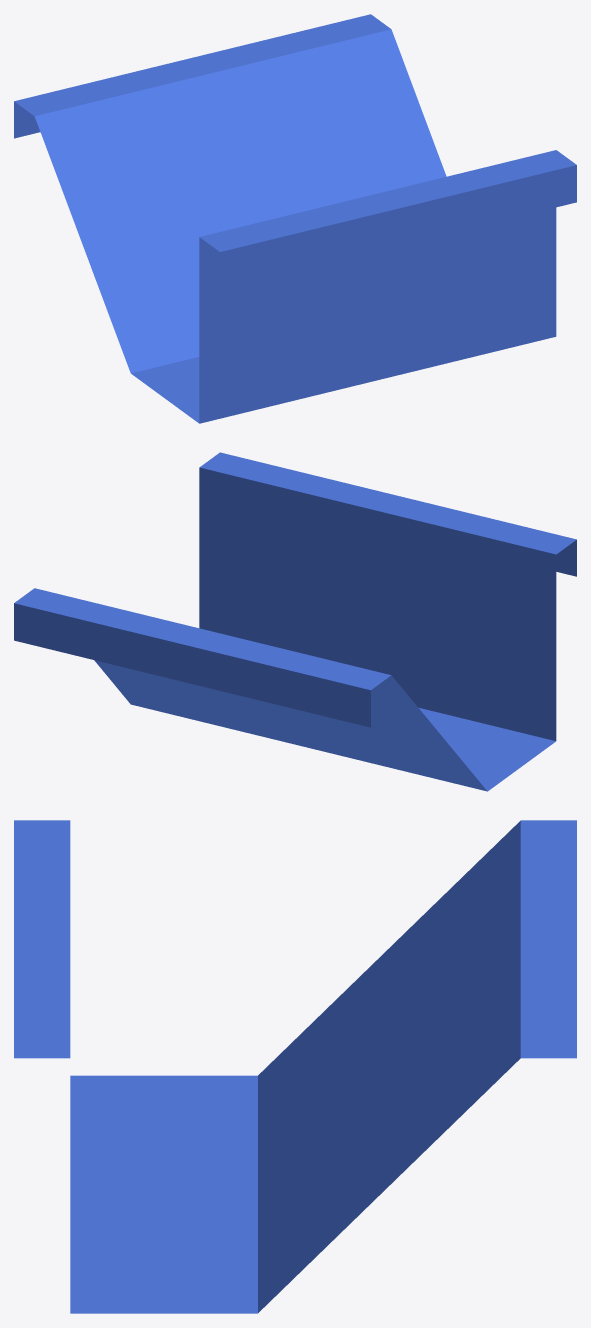
Rendered from Ceiling_1x1m_A.FBX.
3 renders of one model, top to bottom at view 1: azimuth 30°, elevation 25°; view 2: azimuth 150°, elevation 25°; view 3: azimuth 270°, elevation 25°, orthographic. The views are drawn at different scales.
Visible parts, largest first — view 1: Ceiling_1x1m_A; view 2: Ceiling_1x1m_A; view 3: Ceiling_1x1m_A.
Boxes of the visible parts, x1=… form: Ceiling_1x1m_A: x1=14, y1=14, x2=576, y2=423; Ceiling_1x1m_A: x1=14, y1=452, x2=576, y2=791; Ceiling_1x1m_A: x1=14, y1=820, x2=576, y2=1313.
Size of the model in its own units: 100 by 50 by 100.
